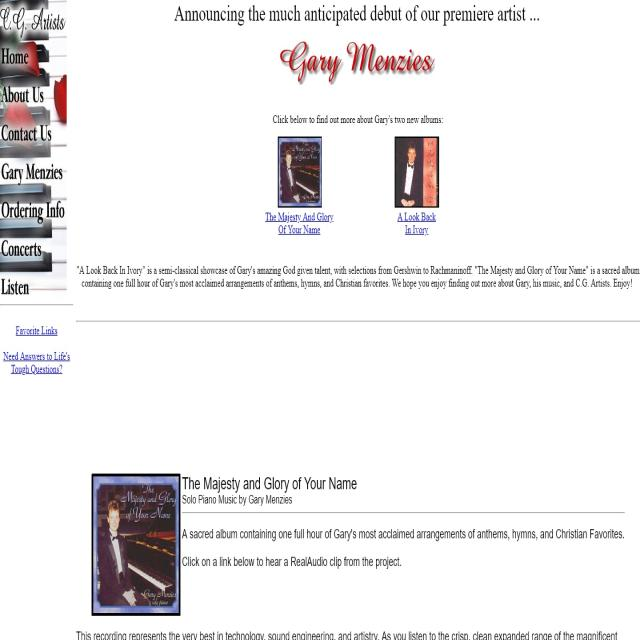button: (0, 268, 69, 310), (0, 188, 67, 230), (0, 40, 71, 77), (0, 230, 69, 268), (0, 149, 67, 188), (0, 112, 67, 149), (1, 1, 68, 37), (1, 78, 68, 113)
heading: (276, 33, 439, 87), (182, 470, 364, 494)
image: (393, 135, 441, 210), (278, 135, 323, 209)
link: (4, 348, 73, 381), (263, 209, 336, 237), (392, 208, 442, 238), (14, 317, 60, 342)
text: (73, 259, 640, 298), (183, 528, 640, 572), (171, 3, 543, 29), (181, 493, 298, 512)
